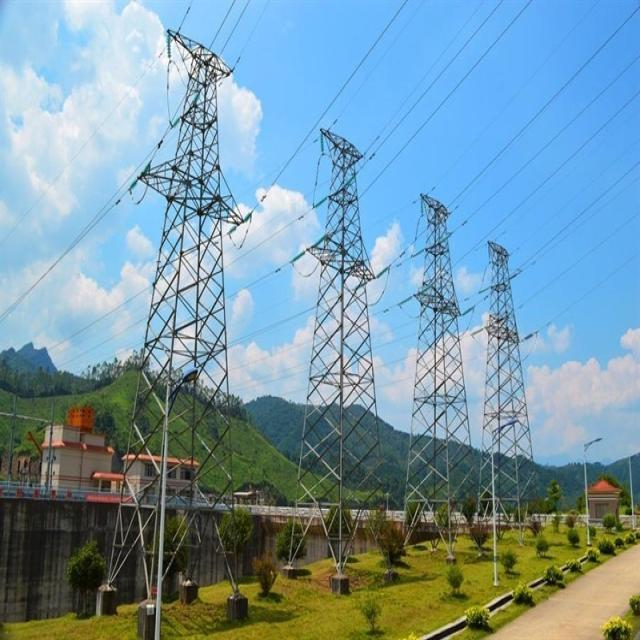non-critical vegetation: (131, 11, 253, 604), (291, 117, 394, 584), (411, 177, 468, 542), (482, 230, 536, 524)
